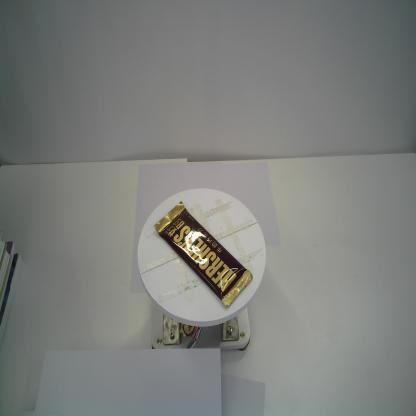Chocolate: (153, 199, 254, 312)
